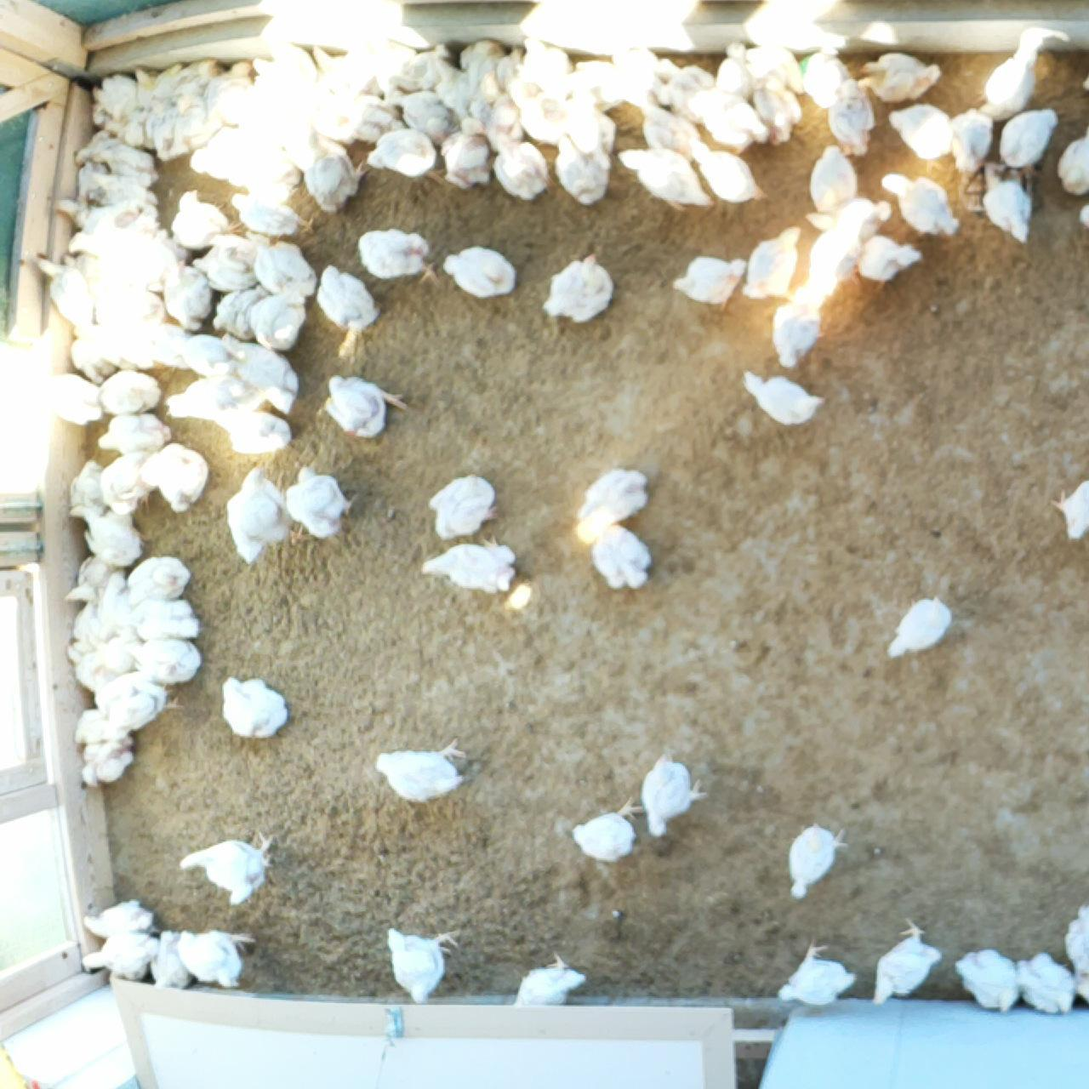chicken: (177, 826, 284, 905), (222, 462, 303, 564), (981, 15, 1065, 110), (314, 256, 384, 366), (865, 912, 940, 1011), (570, 462, 654, 549), (219, 327, 301, 416), (378, 923, 466, 1005), (369, 734, 467, 807), (638, 745, 711, 842), (615, 141, 714, 211), (412, 533, 520, 597), (681, 135, 769, 213), (295, 123, 370, 211), (321, 368, 410, 442), (538, 246, 617, 327), (878, 168, 965, 241), (736, 362, 828, 431), (774, 933, 854, 1012), (565, 789, 648, 865), (739, 218, 808, 307), (351, 224, 442, 291), (31, 248, 100, 332), (784, 816, 852, 901), (212, 395, 297, 462), (427, 467, 500, 544), (175, 923, 258, 990), (884, 591, 954, 668), (286, 465, 356, 542), (803, 223, 868, 305), (142, 436, 210, 514), (668, 248, 751, 311), (978, 158, 1036, 247), (508, 946, 591, 1008), (97, 669, 184, 728), (438, 236, 519, 299), (856, 45, 941, 105), (587, 515, 653, 592), (769, 280, 824, 371), (688, 84, 770, 145), (850, 226, 925, 292), (489, 125, 555, 200), (824, 73, 878, 161), (219, 669, 288, 737), (881, 96, 952, 161), (554, 131, 614, 207), (994, 103, 1062, 169), (75, 929, 161, 981), (733, 34, 806, 94), (434, 113, 493, 187), (955, 946, 1021, 1012), (1013, 950, 1078, 1017), (170, 185, 239, 248), (35, 366, 105, 428), (71, 507, 143, 567), (229, 190, 316, 238), (249, 237, 315, 300), (635, 97, 704, 157), (192, 232, 261, 292), (127, 636, 205, 689), (750, 69, 805, 144), (808, 140, 860, 219), (162, 257, 216, 333), (803, 192, 893, 237), (48, 161, 107, 228), (97, 451, 156, 518), (254, 281, 311, 348), (166, 361, 227, 423), (94, 409, 176, 455), (369, 124, 437, 179), (380, 39, 453, 90), (470, 68, 524, 136), (74, 734, 136, 792), (212, 282, 270, 344), (130, 597, 208, 643), (944, 104, 993, 175), (80, 894, 160, 937), (336, 95, 405, 143), (98, 365, 165, 414), (165, 96, 217, 159), (113, 316, 181, 364), (519, 32, 570, 94), (143, 927, 194, 989), (1042, 475, 1089, 542), (194, 126, 253, 179), (64, 457, 111, 523), (128, 552, 190, 602), (800, 36, 844, 106), (135, 225, 184, 287), (653, 54, 709, 108), (511, 88, 564, 145), (64, 557, 120, 610), (1052, 129, 1089, 207), (388, 87, 450, 133), (251, 139, 305, 191), (68, 319, 115, 378), (214, 57, 256, 123), (558, 97, 620, 140), (87, 71, 141, 120), (432, 57, 473, 119), (708, 37, 755, 90), (92, 140, 159, 177), (93, 284, 159, 321), (573, 57, 630, 99), (96, 569, 134, 632), (90, 630, 143, 675), (608, 37, 664, 79), (172, 333, 225, 377), (66, 225, 129, 262), (252, 55, 288, 116), (1063, 899, 1089, 981), (312, 47, 361, 90), (94, 171, 157, 204), (178, 54, 221, 102), (274, 42, 316, 87), (72, 126, 120, 165), (73, 710, 122, 748), (491, 42, 529, 88), (106, 202, 159, 234), (63, 639, 97, 683), (63, 598, 101, 637), (155, 61, 187, 105), (131, 68, 161, 113), (146, 93, 169, 143)
